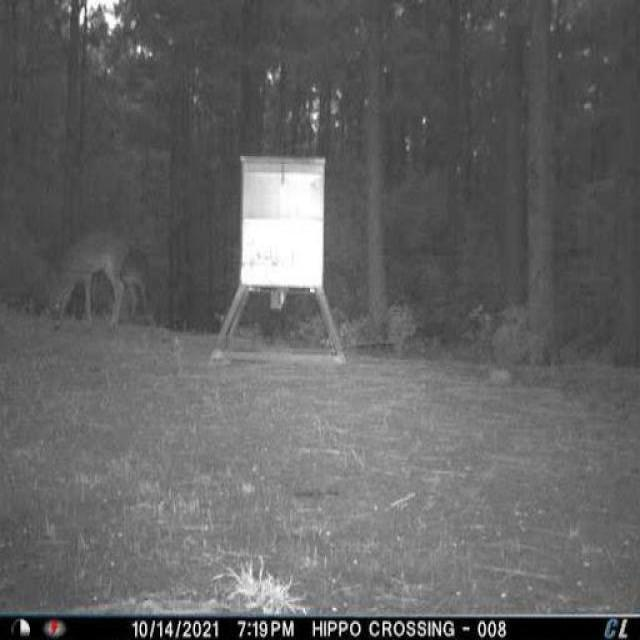deer: (40, 219, 134, 336), (118, 236, 156, 327)
